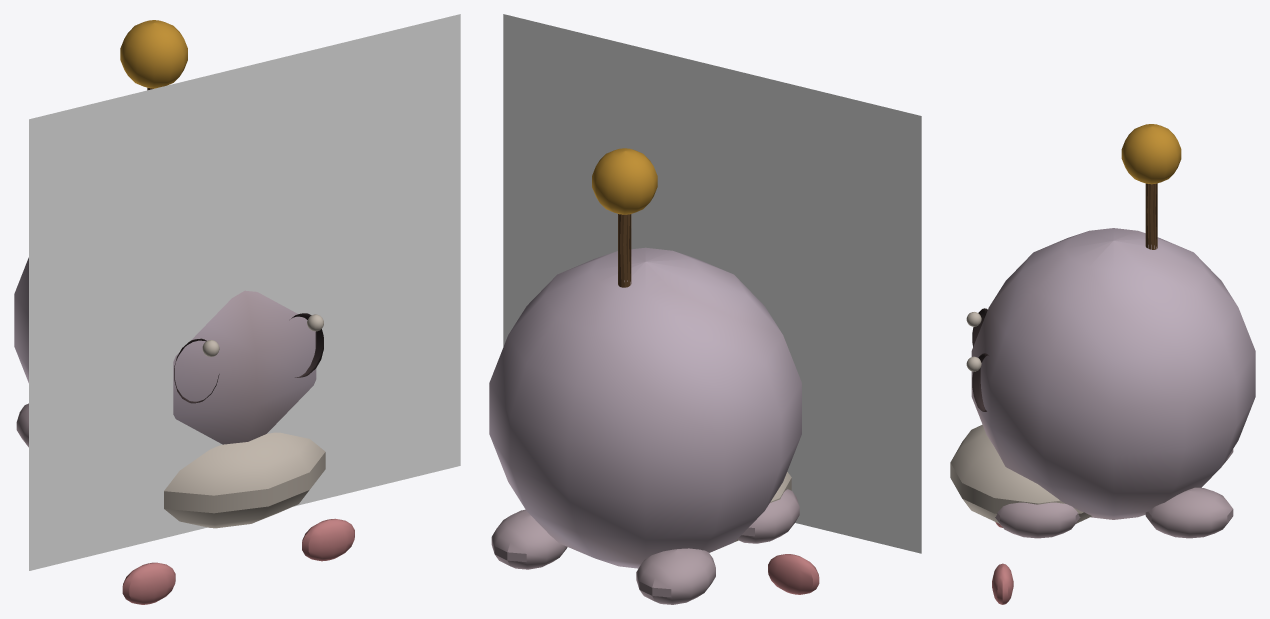
The picture shows the model from 3 angles, left to right: view 1: azimuth 30°, elevation 25°; view 2: azimuth 150°, elevation 25°; view 3: azimuth 270°, elevation 25°; orthographic projection. The views are drawn at different scales.
Visible parts, largest first — view 1: pet_p9f7a5149; view 2: pet_p9f7a5149; view 3: pet_p9f7a5149.
Part boxes in pixels (x1,y1,x2,y2): pet_p9f7a5149: (14,14,460,604); pet_p9f7a5149: (489,14,921,604); pet_p9f7a5149: (950,124,1255,604).
Bounding box in the file's own units: 0.578 × 0.6642 × 0.4023.
